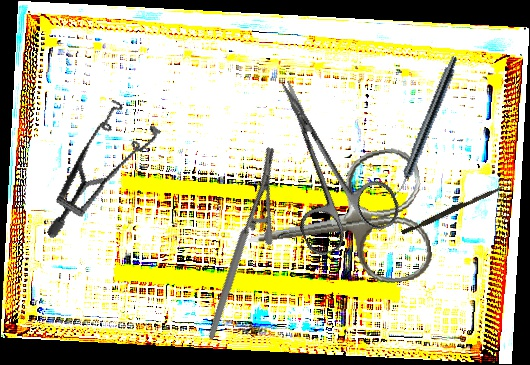Handpiece: (389, 53, 461, 203)
Iris Scissors: (242, 60, 406, 260), (237, 144, 436, 305)
Needle Holder: (154, 144, 327, 340)
Pusher: (401, 181, 505, 238)
Speculum: (11, 88, 183, 239)
